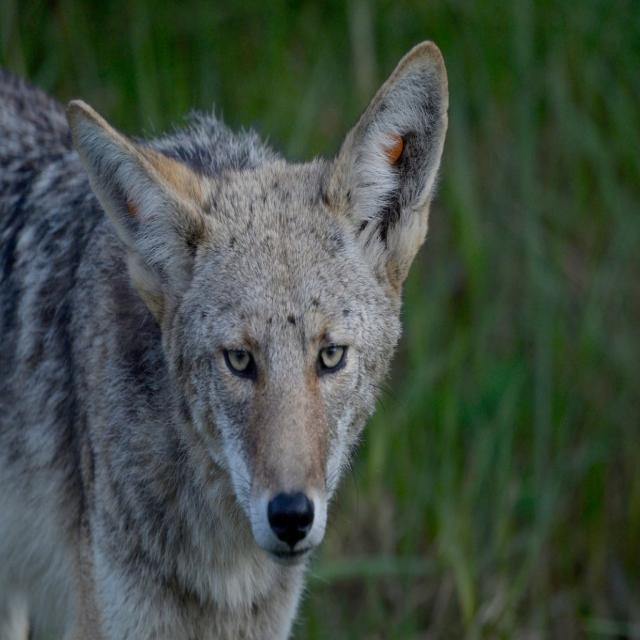Coyote: (0, 20, 462, 639)
